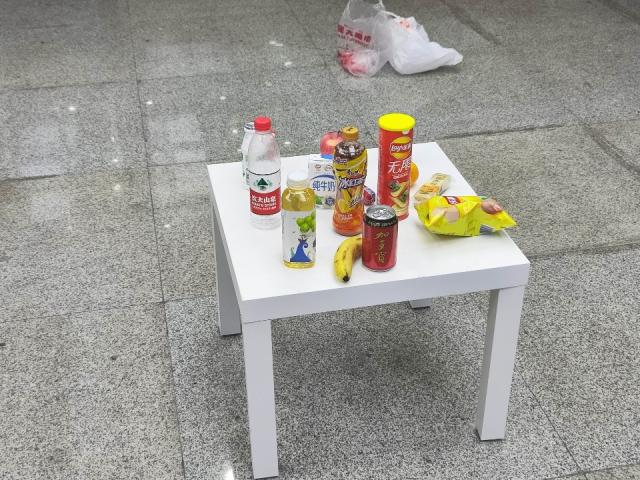Canned_drinks: (361, 203, 403, 274)
